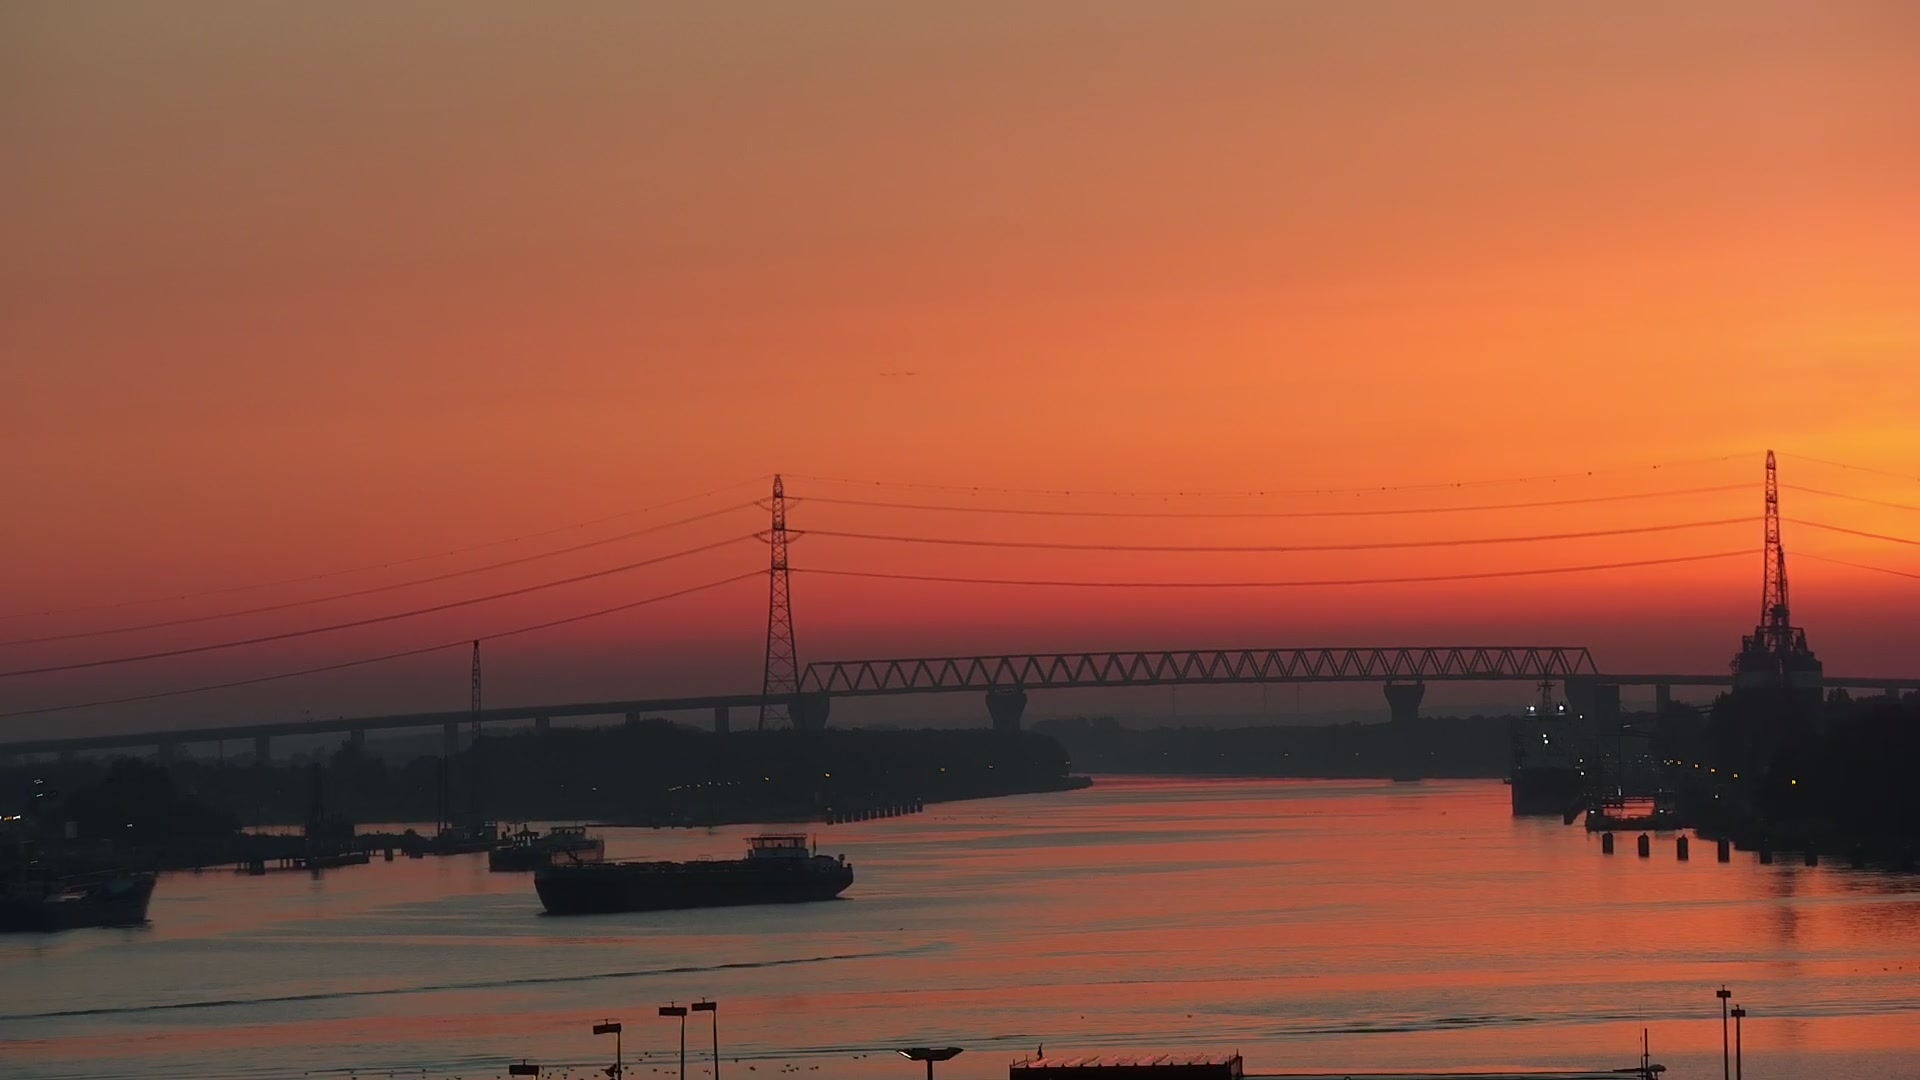sea: (1, 753, 160, 928), (531, 829, 855, 915), (487, 823, 605, 872)
